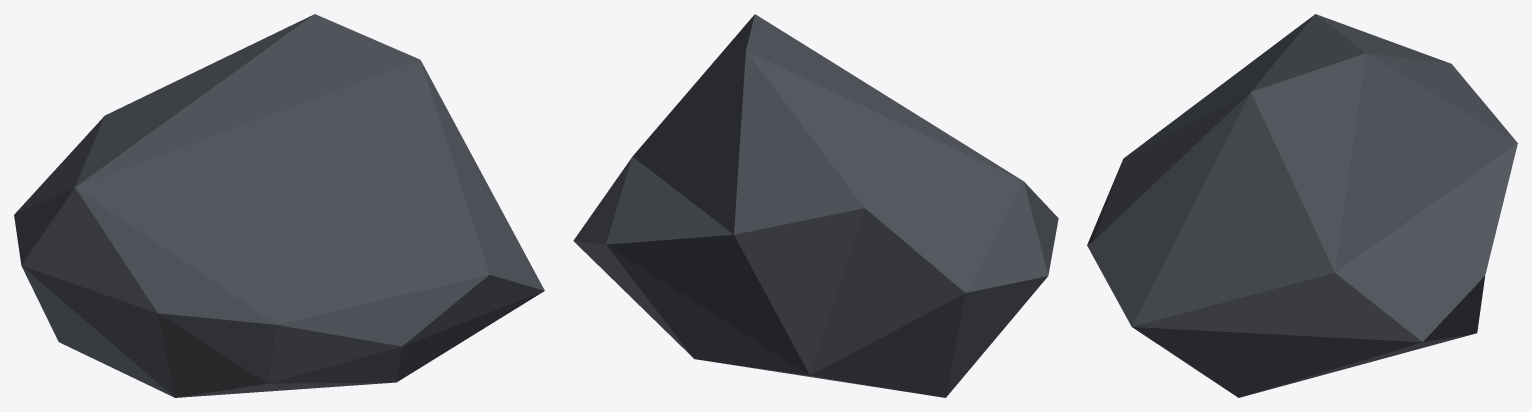
File: Rock_Sm_2.fbx
3 views of the same model, side by side, from view 1: azimuth 30°, elevation 25°; view 2: azimuth 150°, elevation 25°; view 3: azimuth 270°, elevation 25° (orthographic). The views are drawn at different scales.
Visible parts, largest first — view 1: Group64600; view 2: Group64600; view 3: Group64600.
Part boxes in pixels (bbox=[...]): Group64600: bbox=[14, 14, 544, 397]; Group64600: bbox=[573, 14, 1058, 397]; Group64600: bbox=[1087, 14, 1517, 397].
Size of the model in its own units: 171 by 106 by 140.
